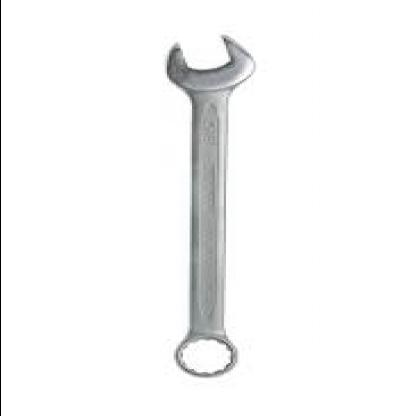Wrench: (161, 31, 262, 380)
